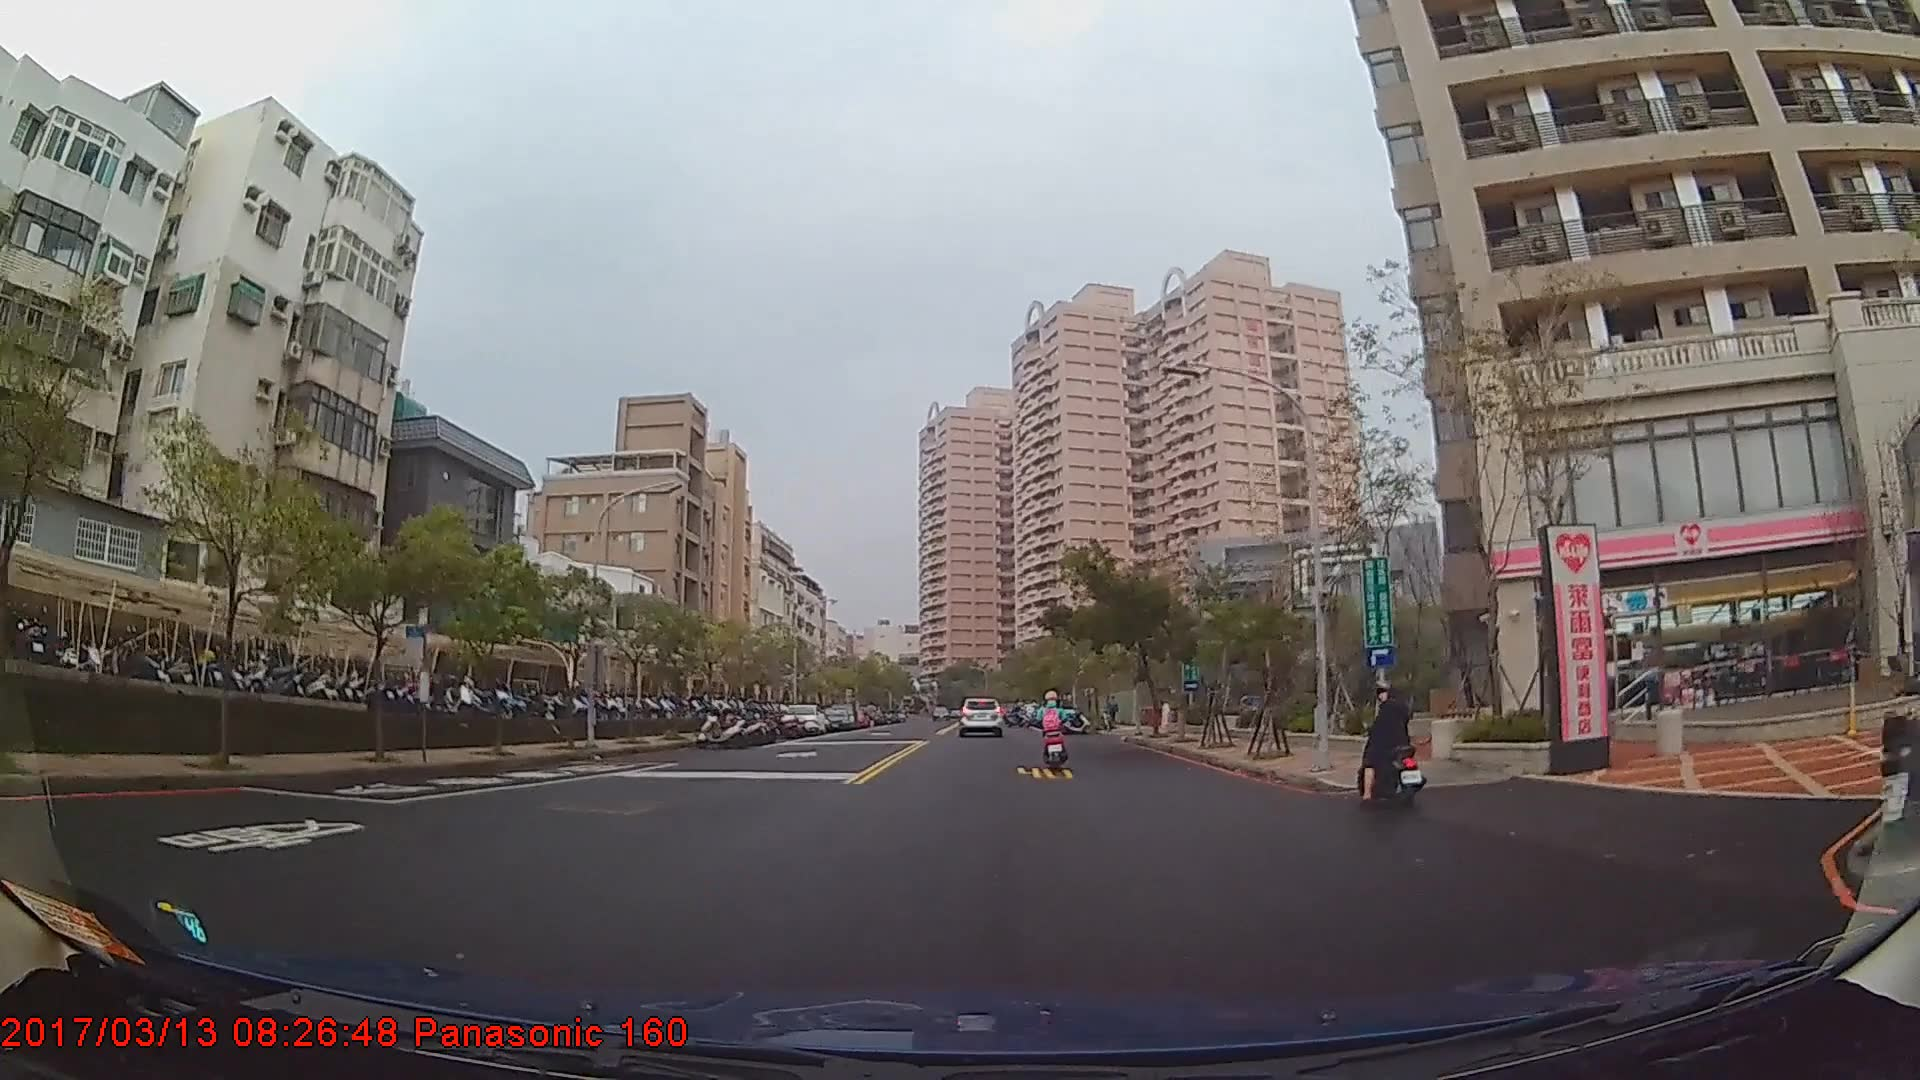rider: (1355, 683, 1435, 817), (1037, 687, 1074, 766)
vehicle: (955, 695, 1006, 734), (779, 701, 825, 732)
